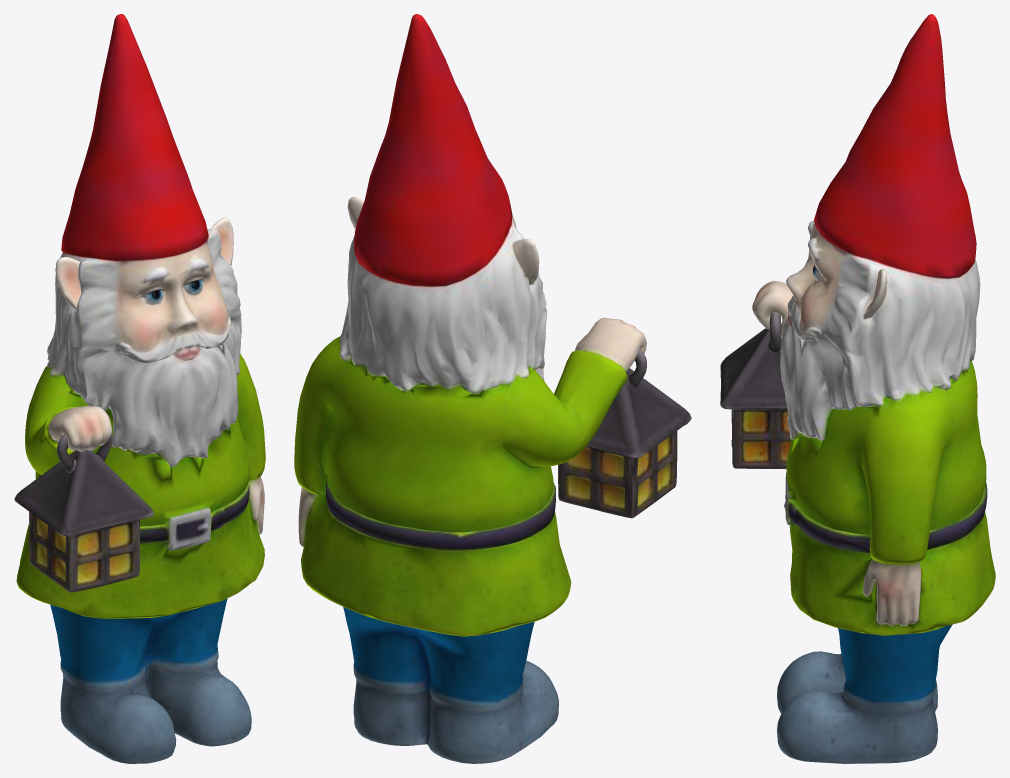
The model's file is garden_gnome.glb.
3 views of the same model, side by side, from view 1: azimuth 30°, elevation 25°; view 2: azimuth 150°, elevation 25°; view 3: azimuth 270°, elevation 25° (orthographic). The views are drawn at different scales.
Parts seen in each view (by area): view 1: garden_gnome; view 2: garden_gnome; view 3: garden_gnome.
Part boxes in pixels (bbox=[...]): garden_gnome: bbox=[14, 14, 265, 763]; garden_gnome: bbox=[294, 14, 691, 763]; garden_gnome: bbox=[720, 14, 995, 763].
Size of the model in its own units: 0.2578 by 0.5991 by 0.2097.
Materials: 1 (1 with a texture image).
